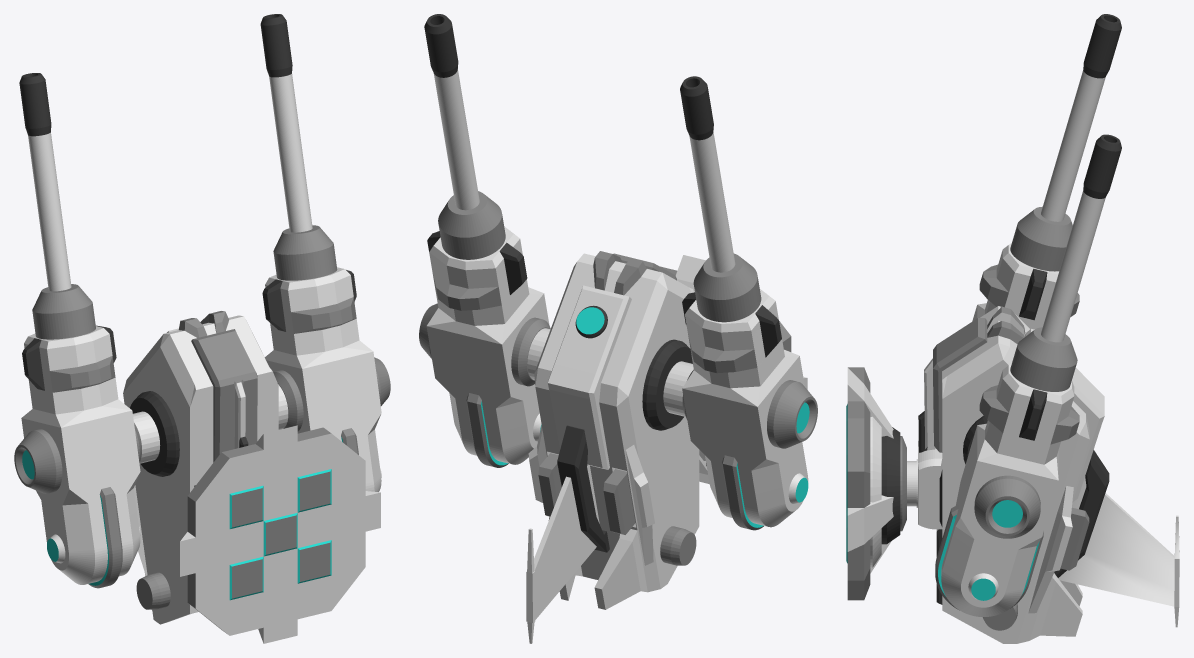
Rendered from Procelio.fbx.
The picture shows the model from 3 angles, left to right: view 1: azimuth 30°, elevation 25°; view 2: azimuth 150°, elevation 25°; view 3: azimuth 270°, elevation 25°; orthographic projection. The views are drawn at different scales.
Parts seen in each view (by area): view 1: MountedGun, GunBase, MainChassis; view 2: MountedGun, MainChassis, GunBase; view 3: MountedGun, MainChassis, GunBase.
Boxes of the visible parts, x1,y1,x2,y2 form: MountedGun: [14, 14, 390, 588]; GunBase: [180, 425, 380, 643]; MainChassis: [123, 311, 288, 624]; MountedGun: [419, 14, 817, 530]; MainChassis: [526, 251, 699, 643]; GunBase: [660, 255, 807, 483]; MountedGun: [935, 14, 1121, 616]; MainChassis: [916, 306, 1179, 643]; GunBase: [846, 367, 906, 600].
Size of the model in its own units: 468 by 677 by 372.
